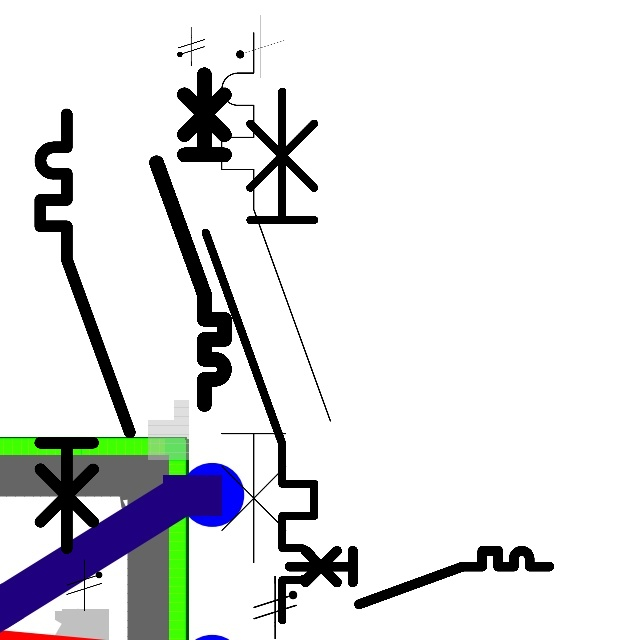interruptor_termomagnetico: (208, 19, 344, 576), (192, 77, 328, 633), (29, 103, 140, 559), (148, 66, 233, 413), (283, 544, 556, 611)
